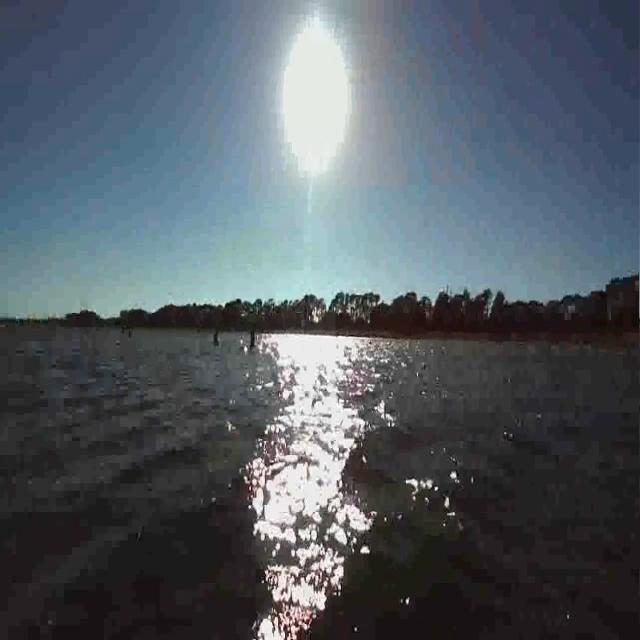green-column-buoy: (248, 320, 259, 354)
